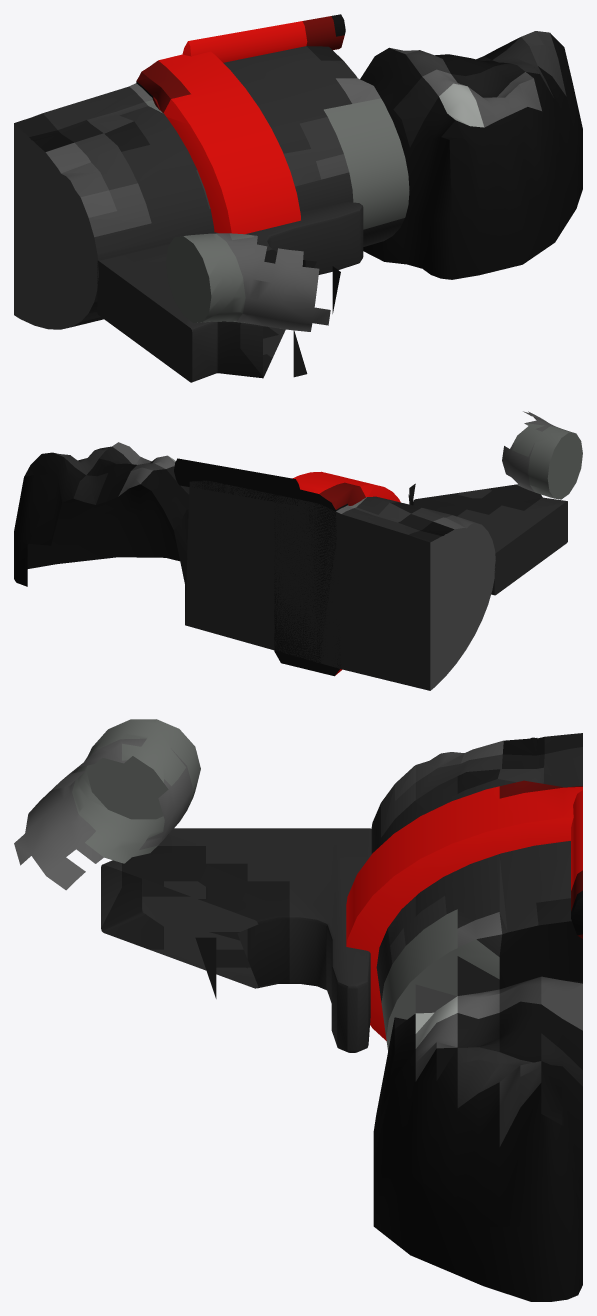
Rendered from station_l_br_damaged.glb.
The picture shows the model from 3 angles, top to bottom: view 1: azimuth 30°, elevation 25°; view 2: azimuth 150°, elevation 25°; view 3: azimuth 270°, elevation 25°; orthographic projection. The views are drawn at different scales.
Visible parts, largest first — view 1: station_l_br_damaged_axle, station_l_br_damaged_dock_stub, station_l_br_damaged_web0_low, station_l_br_damaged_red_clamp, station_l_br_damaged_strut_low, station_l_br_damaged_red_rod; view 2: station_l_br_damaged_axle, station_l_br_damaged_dock_stub, station_l_br_damaged_web0_low, station_l_br_damaged_red_clamp, station_l_br_damaged_strut_low, station_l_br_damaged_red_rod; view 3: station_l_br_damaged_dock_stub, station_l_br_damaged_web0_low, station_l_br_damaged_axle, station_l_br_damaged_strut_low, station_l_br_damaged_red_clamp, station_l_br_damaged_red_rod.
Boxes of the visible parts, left/top/right/bottom form: station_l_br_damaged_axle: left=14, top=46, right=409, bottom=329; station_l_br_damaged_dock_stub: left=360, top=31, right=582, bottom=279; station_l_br_damaged_web0_low: left=97, top=202, right=363, bottom=382; station_l_br_damaged_red_clamp: left=136, top=51, right=300, bottom=234; station_l_br_damaged_strut_low: left=165, top=233, right=330, bottom=331; station_l_br_damaged_red_rod: left=182, top=14, right=345, bottom=62; station_l_br_damaged_axle: left=185, top=480, right=495, bottom=690; station_l_br_damaged_dock_stub: left=14, top=442, right=189, bottom=622; station_l_br_damaged_web0_low: left=408, top=483, right=567, bottom=595; station_l_br_damaged_red_clamp: left=274, top=471, right=400, bottom=676; station_l_br_damaged_strut_low: left=502, top=411, right=582, bottom=499; station_l_br_damaged_red_rod: left=174, top=458, right=300, bottom=505; station_l_br_damaged_dock_stub: left=373, top=976, right=582, bottom=1301; station_l_br_damaged_web0_low: left=101, top=828, right=371, bottom=1052; station_l_br_damaged_axle: left=371, top=733, right=582, bottom=1051; station_l_br_damaged_strut_low: left=14, top=719, right=200, bottom=890; station_l_br_damaged_red_clamp: left=346, top=780, right=582, bottom=1040; station_l_br_damaged_red_rod: left=571, top=790, right=582, bottom=938.
Bounding box in the file's own units: 18.99 × 8.04 × 13.56.
